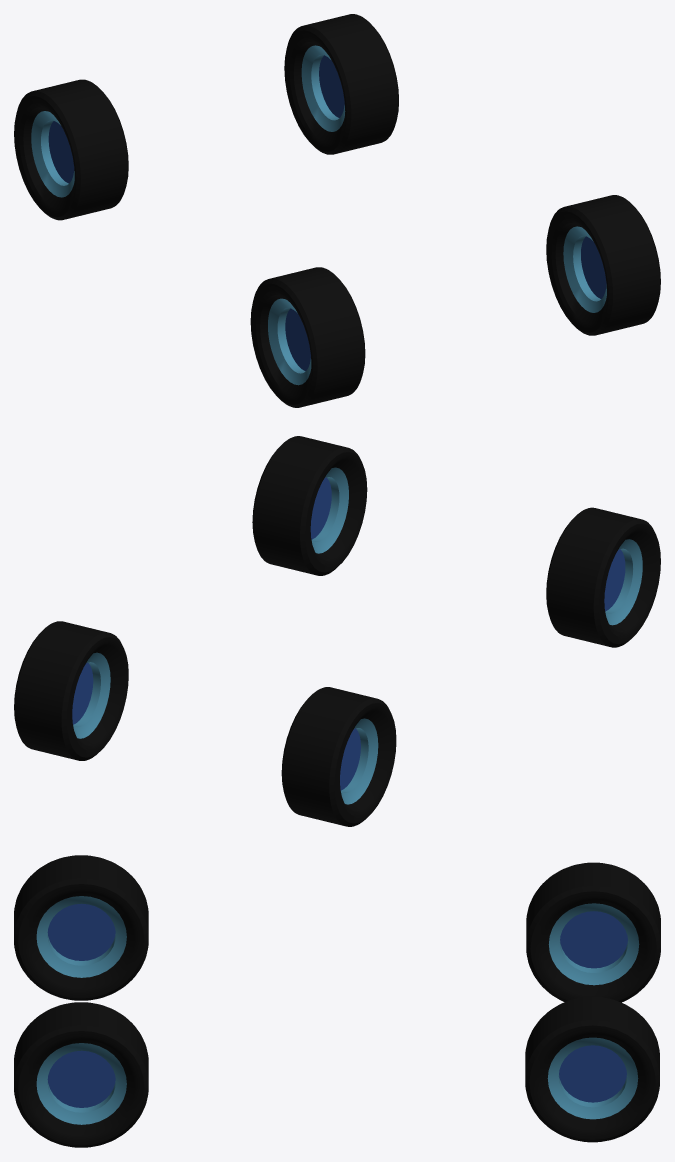
The model's file is rodas_clara.fbx.
3 renders of one model, top to bottom at view 1: azimuth 30°, elevation 25°; view 2: azimuth 150°, elevation 25°; view 3: azimuth 270°, elevation 25°, orthographic. The views are drawn at different scales.
Visible parts, largest first — view 1: Roda_DiretaTraseira, Roda_EsquerdaFrente, Roda_DiretaFrente, Roda_Esquerdaraseira; view 2: Roda_Esquerdaraseira, Roda_DiretaFrente, Roda_DiretaTraseira, Roda_EsquerdaFrente; view 3: Roda_DiretaFrente, Roda_EsquerdaFrente, Roda_Esquerdaraseira, Roda_DiretaTraseira.
Part boxes in pixels (<box>): Roda_DiretaTraseira: <box>14,79,128,220</box>; Roda_EsquerdaFrente: <box>546,195,660,335</box>; Roda_DiretaFrente: <box>250,267,365,407</box>; Roda_Esquerdaraseira: <box>284,14,398,154</box>; Roda_Esquerdaraseira: <box>14,621,128,760</box>; Roda_DiretaFrente: <box>546,507,660,647</box>; Roda_DiretaTraseira: <box>281,687,396,826</box>; Roda_EsquerdaFrente: <box>252,436,367,575</box>; Roda_DiretaFrente: <box>14,855,148,1000</box>; Roda_EsquerdaFrente: <box>14,1002,148,1147</box>; Roda_Esquerdaraseira: <box>525,997,659,1142</box>; Roda_DiretaTraseira: <box>526,862,660,1002</box>.
Size of the model in its own units: 317 by 104 by 501.
